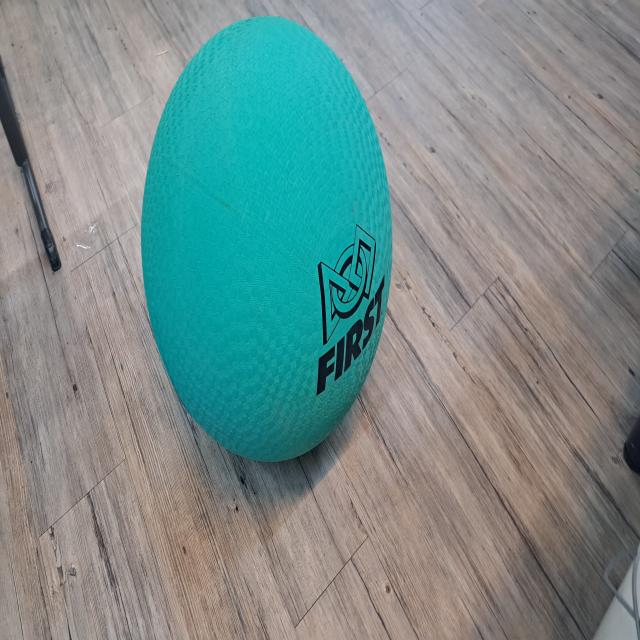ALGAE: (139, 14, 394, 464)
